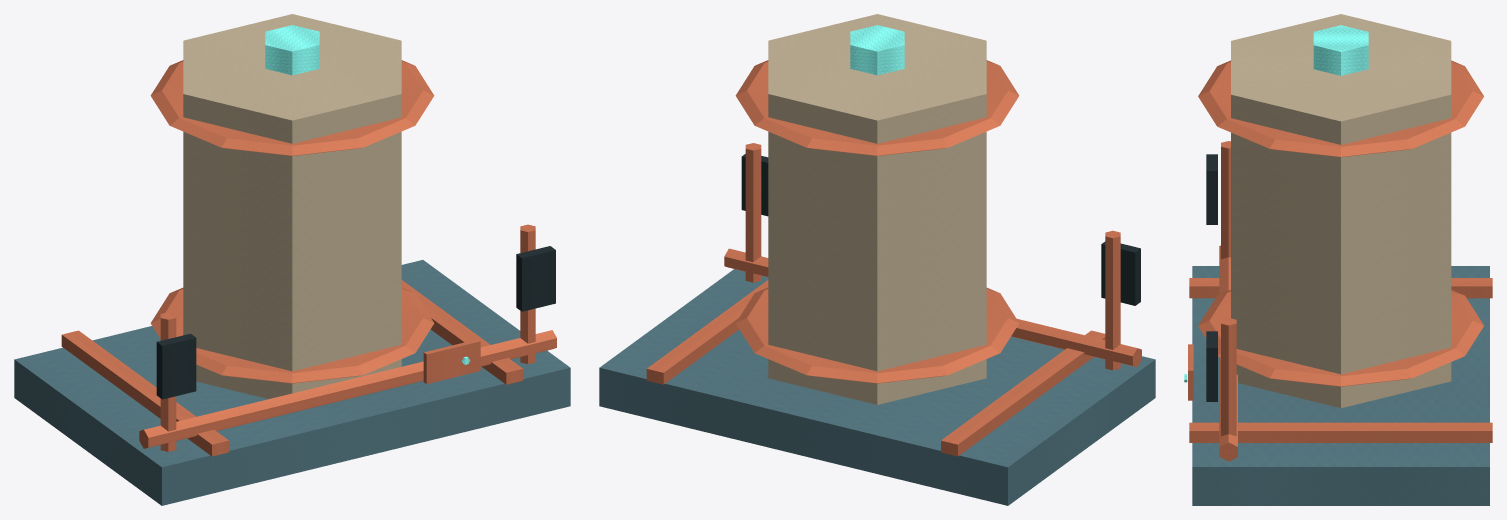
File: atlas100-s050-a01.lod1.glb
3 renders of one model, left to right at view 1: azimuth 30°, elevation 25°; view 2: azimuth 150°, elevation 25°; view 3: azimuth 270°, elevation 25°, orthographic.
Visible parts, largest first — view 1: atlas100-s050-a01:part-003, atlas100-s050-a01:part-000, atlas100-s050-a01:part-005, atlas100-s050-a01:part-011, atlas100-s050-a01:part-004, atlas100-s050-a01:part-001, atlas100-s050-a01:part-006, atlas100-s050-a01:part-008, atlas100-s050-a01:part-010, atlas100-s050-a01:part-002, atlas100-s050-a01:part-012, atlas100-s050-a01:part-007 (+1 smaller); view 2: atlas100-s050-a01:part-003, atlas100-s050-a01:part-000, atlas100-s050-a01:part-005, atlas100-s050-a01:part-004, atlas100-s050-a01:part-001, atlas100-s050-a01:part-011, atlas100-s050-a01:part-002, atlas100-s050-a01:part-006, atlas100-s050-a01:part-009, atlas100-s050-a01:part-007, atlas100-s050-a01:part-008, atlas100-s050-a01:part-010; view 3: atlas100-s050-a01:part-003, atlas100-s050-a01:part-000, atlas100-s050-a01:part-005, atlas100-s050-a01:part-004, atlas100-s050-a01:part-002, atlas100-s050-a01:part-006, atlas100-s050-a01:part-009, atlas100-s050-a01:part-001, atlas100-s050-a01:part-011, atlas100-s050-a01:part-007, atlas100-s050-a01:part-008, atlas100-s050-a01:part-010.
Boxes of the visible parts, x1,y1,x2,y2 form: atlas100-s050-a01:part-003: (183,14,401,398); atlas100-s050-a01:part-000: (14,260,570,505); atlas100-s050-a01:part-005: (150,60,434,155); atlas100-s050-a01:part-011: (139,330,556,448); atlas100-s050-a01:part-004: (150,287,434,383); atlas100-s050-a01:part-001: (61,330,228,456); atlas100-s050-a01:part-006: (265,25,319,75); atlas100-s050-a01:part-008: (156,333,196,399); atlas100-s050-a01:part-010: (516,246,555,311); atlas100-s050-a01:part-002: (401,280,523,384); atlas100-s050-a01:part-012: (423,339,480,383); atlas100-s050-a01:part-007: (160,312,176,451); atlas100-s050-a01:part-003: (768,14,986,404); atlas100-s050-a01:part-000: (599,269,1155,505); atlas100-s050-a01:part-005: (735,60,1019,155); atlas100-s050-a01:part-004: (735,287,1019,383); atlas100-s050-a01:part-001: (941,330,1105,456); atlas100-s050-a01:part-011: (724,248,1141,367); atlas100-s050-a01:part-002: (646,280,768,384); atlas100-s050-a01:part-006: (850,25,904,75); atlas100-s050-a01:part-009: (745,143,761,282); atlas100-s050-a01:part-007: (1105,230,1120,370); atlas100-s050-a01:part-008: (1101,241,1140,305); atlas100-s050-a01:part-010: (741,154,768,216); atlas100-s050-a01:part-003: (1231,14,1451,408); atlas100-s050-a01:part-000: (1192,266,1489,505); atlas100-s050-a01:part-005: (1198,60,1483,157); atlas100-s050-a01:part-004: (1198,290,1483,386); atlas100-s050-a01:part-002: (1189,422,1492,442); atlas100-s050-a01:part-006: (1313,25,1368,75); atlas100-s050-a01:part-009: (1221,318,1236,436); atlas100-s050-a01:part-001: (1189,278,1492,298); atlas100-s050-a01:part-011: (1219,245,1237,461); atlas100-s050-a01:part-007: (1221,141,1230,259); atlas100-s050-a01:part-008: (1206,154,1217,224); atlas100-s050-a01:part-010: (1206,331,1217,401).
Bounding box in the file's own units: 2.88 × 2.45 × 1.87.
5 materials, 5 textured.
